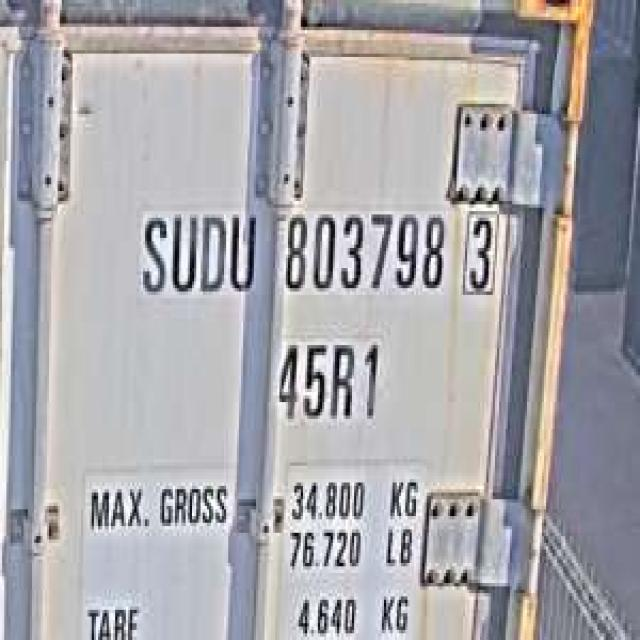dv: (459, 201, 501, 298)
owner: (134, 198, 260, 305)
serial: (277, 198, 448, 305)
size: (271, 328, 386, 429)
